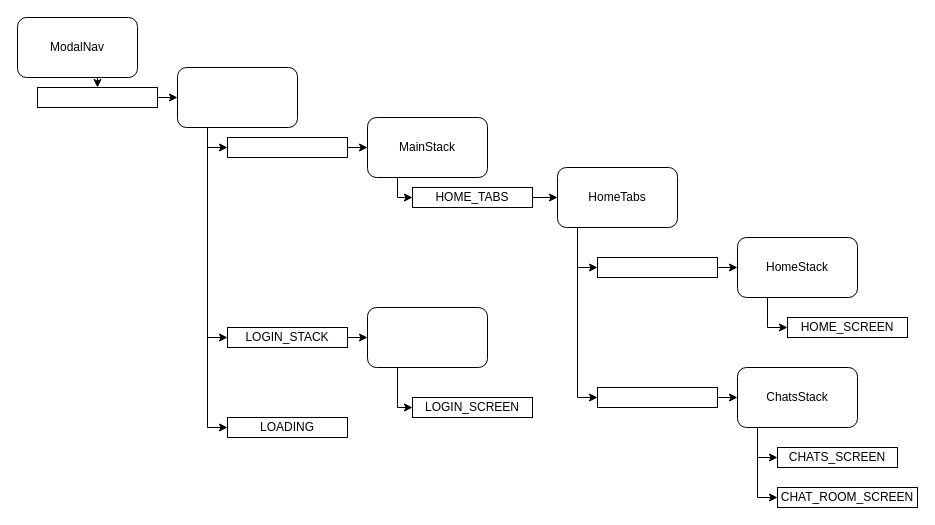
This 935x525 diagram has some shape labels left out. The centre of each missing label's shape, as x and y in pixels:
"CHATS_STACK" belongs at point 657,397.
"HOME_STACK" belongs at point 657,267.
"LoginStack" belongs at point 427,337.
"Main" belongs at point 97,97.
"MAIN_APP" belongs at point 287,147.
"PrimaryNav (switch)" belongs at point 237,97.
